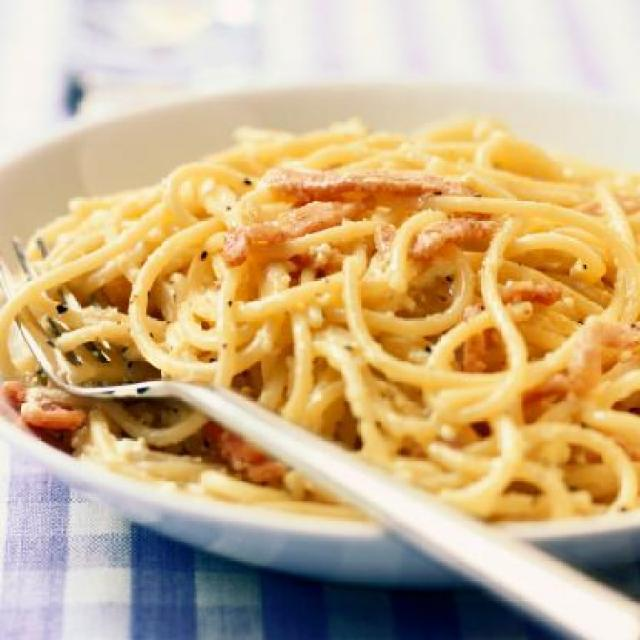Pasta with carbonara sauce: (14, 76, 620, 544)
